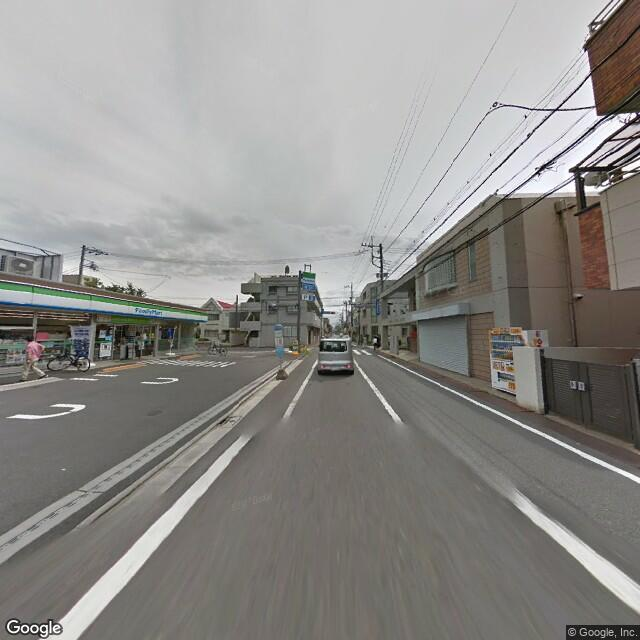family_mart: (2, 278, 208, 324), (299, 269, 320, 293), (131, 302, 164, 316)
